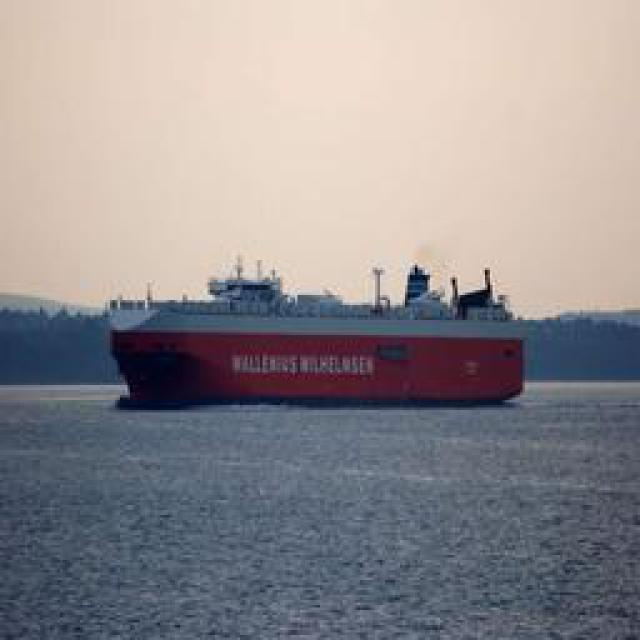Ship: (109, 264, 532, 409)
